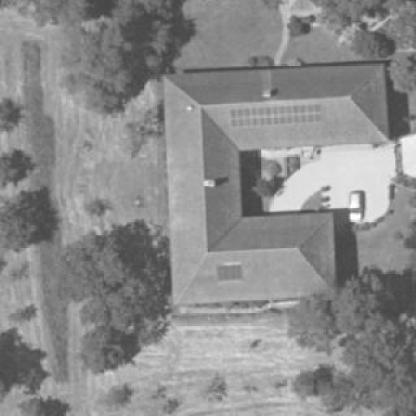solar-pv-panel: (230, 104, 320, 128), (218, 265, 243, 281)
